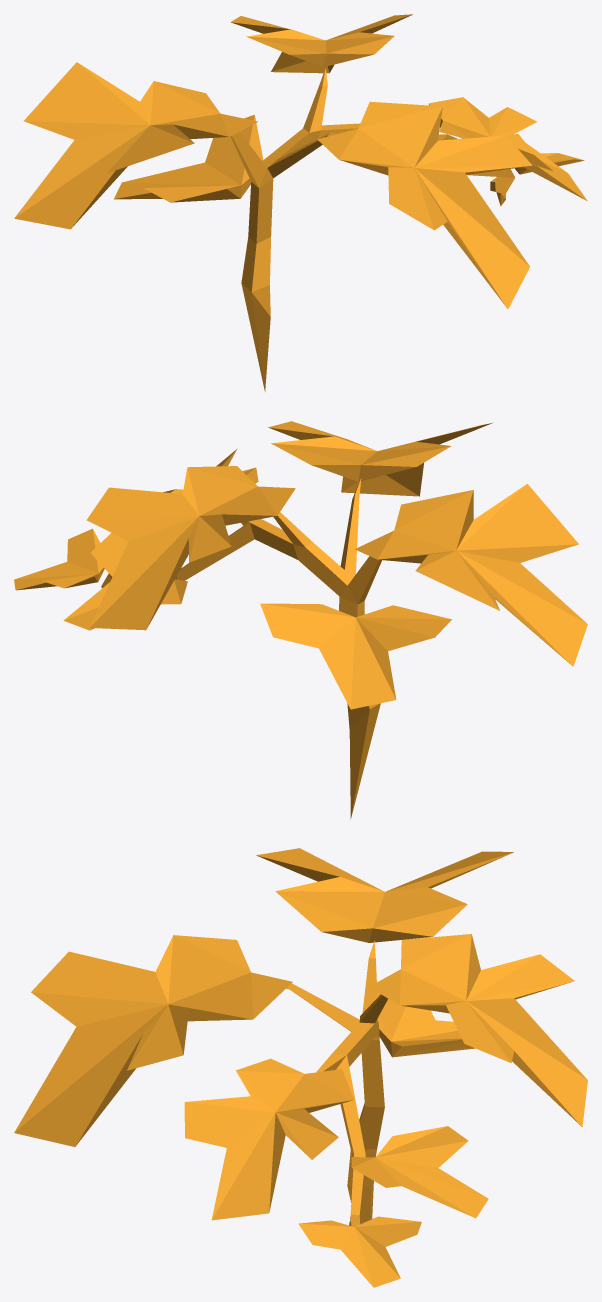
The model's file is SM_Watermelon_Plant_Seedling_Dead.fbx.
3 views of the same model, one above another, from view 1: azimuth 30°, elevation 25°; view 2: azimuth 150°, elevation 25°; view 3: azimuth 270°, elevation 25° (orthographic). The views are drawn at different scales.
Parts seen in each view (by area): view 1: watermelon-plant-seedling-dead; view 2: watermelon-plant-seedling-dead; view 3: watermelon-plant-seedling-dead.
Part boxes in pixels (x1=…): watermelon-plant-seedling-dead: x1=14, y1=14, x2=587, y2=391; watermelon-plant-seedling-dead: x1=14, y1=421, x2=587, y2=819; watermelon-plant-seedling-dead: x1=14, y1=848, x2=587, y2=1287.
Size of the model in its own units: 0.5891 by 0.3243 by 0.4612.
